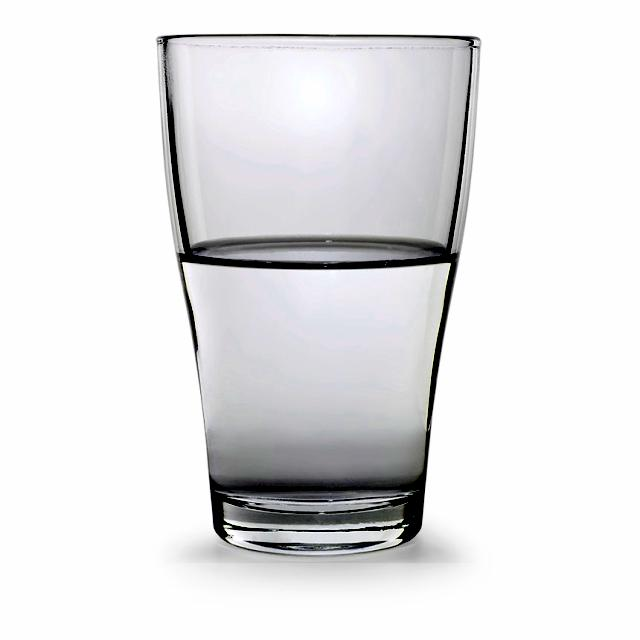half-bottle: (150, 23, 480, 563)
